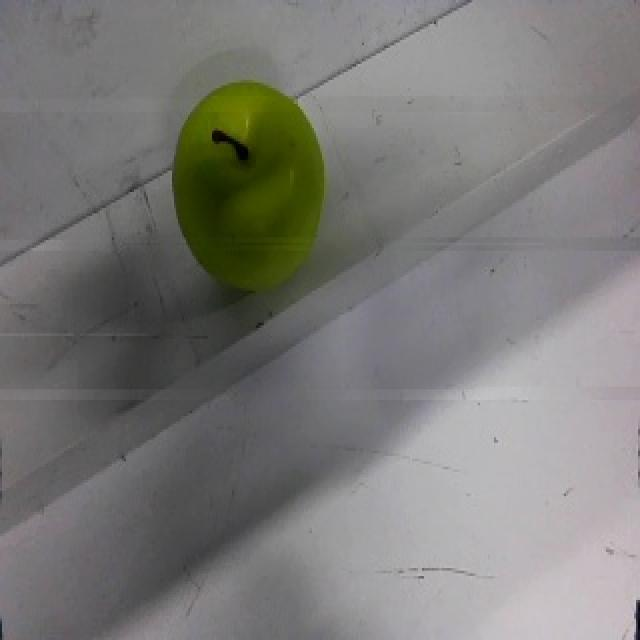apple: (169, 78, 328, 295)
